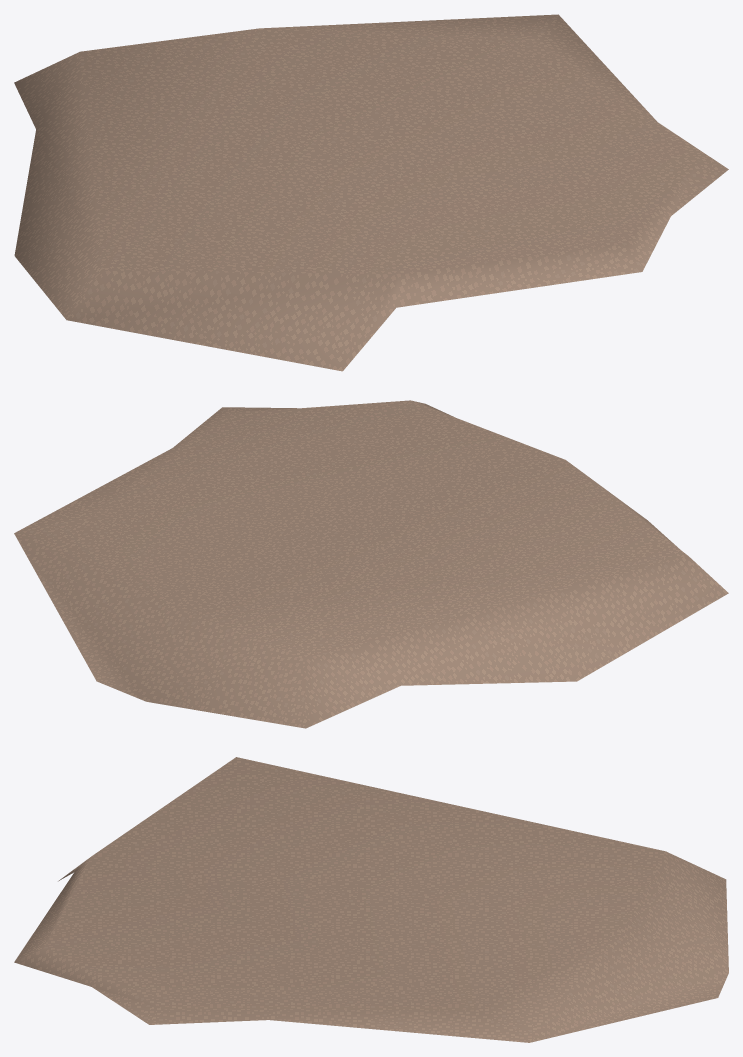
The model's file is kd_stage_135fe0_0_13_bounded.glb.
3 views of the same model, one above another, from view 1: azimuth 30°, elevation 25°; view 2: azimuth 150°, elevation 25°; view 3: azimuth 270°, elevation 25° (orthographic). The views are drawn at different scales.
Parts seen in each view (by area): view 1: kd_stage_135fe0_0_13_bounded; view 2: kd_stage_135fe0_0_13_bounded; view 3: kd_stage_135fe0_0_13_bounded.
Boxes of the visible parts, x1,y1,x2,y2 form: kd_stage_135fe0_0_13_bounded: (14,14,728,371); kd_stage_135fe0_0_13_bounded: (14,400,728,728); kd_stage_135fe0_0_13_bounded: (14,757,728,1042).
Bounding box in the file's own units: 10.86 × 1.09 × 11.05.
Materials: 1 (1 with a texture image).
